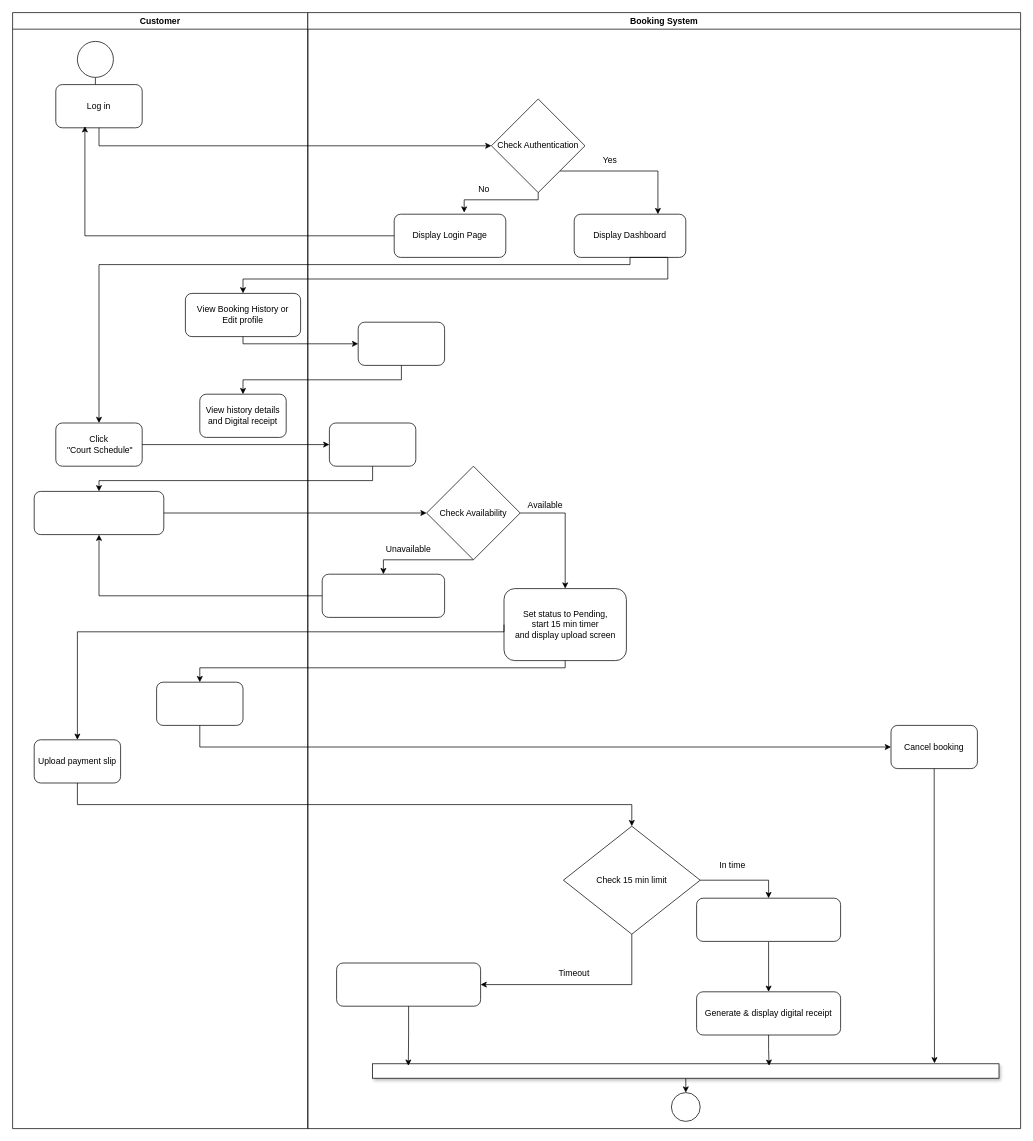
This 1033x1141 diagram has some shape labels left out. The centre of each missing label's shape, as x and y in pixels:
Auto cancel booking & display alert: point (408, 984)
Click "Cancel Booking": point (199, 703)
Display unavailable alert: point (383, 595)
Fetch & Display Booking History: point (401, 343)
Fetch & Display Court Schedule: point (372, 444)
Save slip & wait for staff approval: point (768, 919)
Select sport, date, time and book court: point (98, 513)
